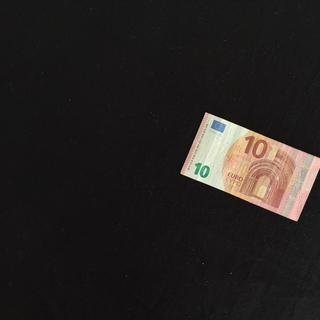10EUROFront: (179, 112, 320, 221)
